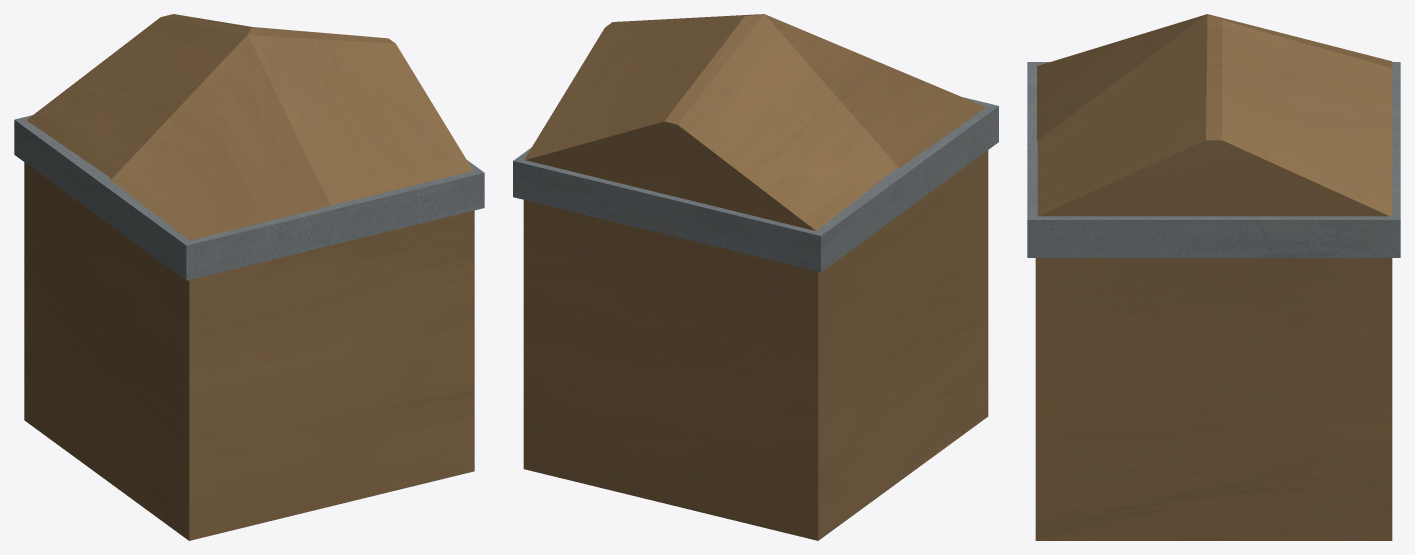
The model's file is BumperRailingCorner.glb.
3 views of the same model, side by side, from view 1: azimuth 30°, elevation 25°; view 2: azimuth 150°, elevation 25°; view 3: azimuth 270°, elevation 25° (orthographic). The views are drawn at different scales.
Visible parts, largest first — view 1: BumperRailingCorner; view 2: BumperRailingCorner; view 3: BumperRailingCorner.
Part boxes in pixels (x1,y1,x2,y2): BumperRailingCorner: (14, 14, 484, 540); BumperRailingCorner: (513, 14, 998, 540); BumperRailingCorner: (1027, 14, 1400, 540).
Size of the model in its own units: 2.09 by 2.77 by 2.09.
Materials: 2 (2 with a texture image).
